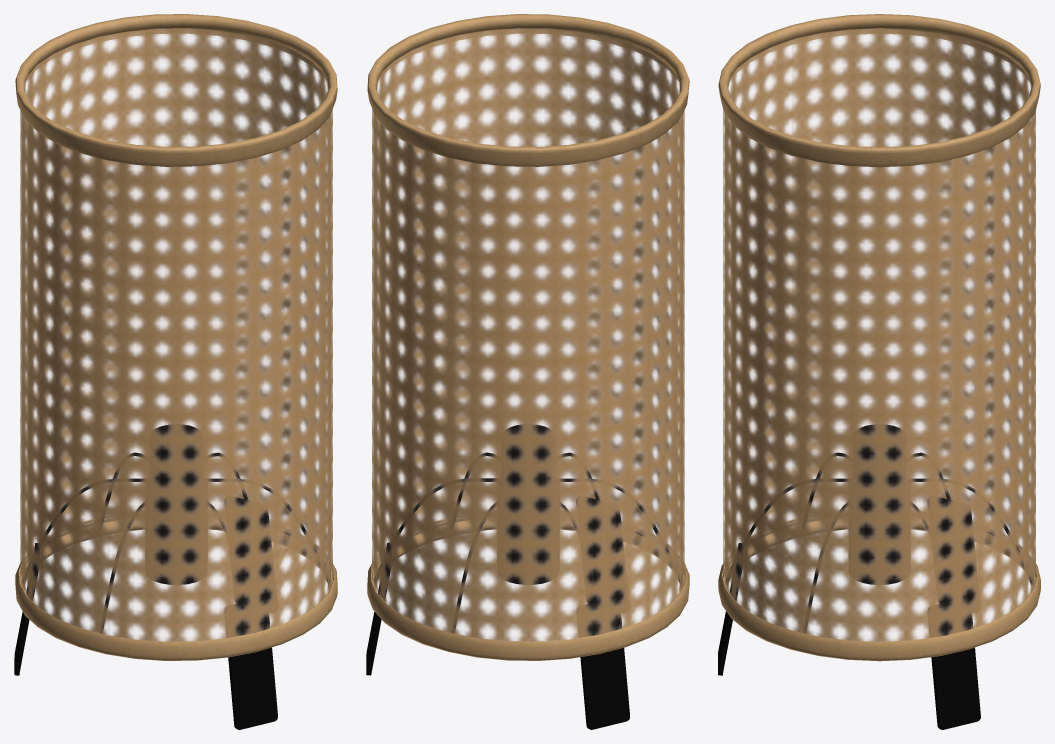
File: saxhyttan_lampa_stoowa_40502250.glb
3 renders of one model, left to right at view 1: azimuth 30°, elevation 25°; view 2: azimuth 150°, elevation 25°; view 3: azimuth 270°, elevation 25°, orthographic.
Parts seen in each view (by area): view 1: saxhyttan_lampa_stoowa_40502250; view 2: saxhyttan_lampa_stoowa_40502250; view 3: saxhyttan_lampa_stoowa_40502250.
Part boxes in pixels (x1,y1,x2,y2): saxhyttan_lampa_stoowa_40502250: (14, 14, 337, 729); saxhyttan_lampa_stoowa_40502250: (366, 14, 689, 729); saxhyttan_lampa_stoowa_40502250: (718, 14, 1040, 729).
Size of the model in its own units: 0.1299 by 0.26 by 0.1299.
2 materials, 2 textured.
